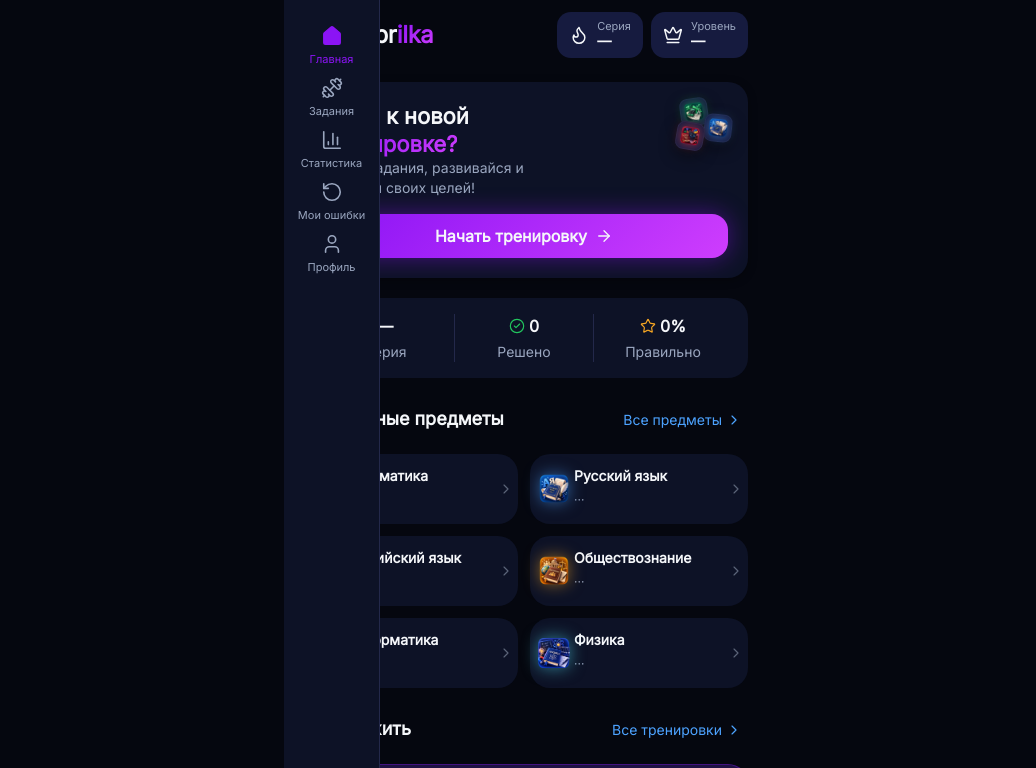
Scenario: AppMobile — MobileShell stays mounted across tab/overlay transitions (mobile visual-flash fix) › never remounts the header/BottomNav when crossing between a plain tab and the Профиль bottom-nav overlay
Expected: the header is shown, x1=284 y1=0 x2=764 y2=66
Expected: the navigation bar named "Zybrilka" is shown, x1=284 y1=0 x2=380 y2=767
Click the button "Профиль".
click(332, 254)  # box x1=284 y1=232 x2=379 y2=276
(page scrolled)
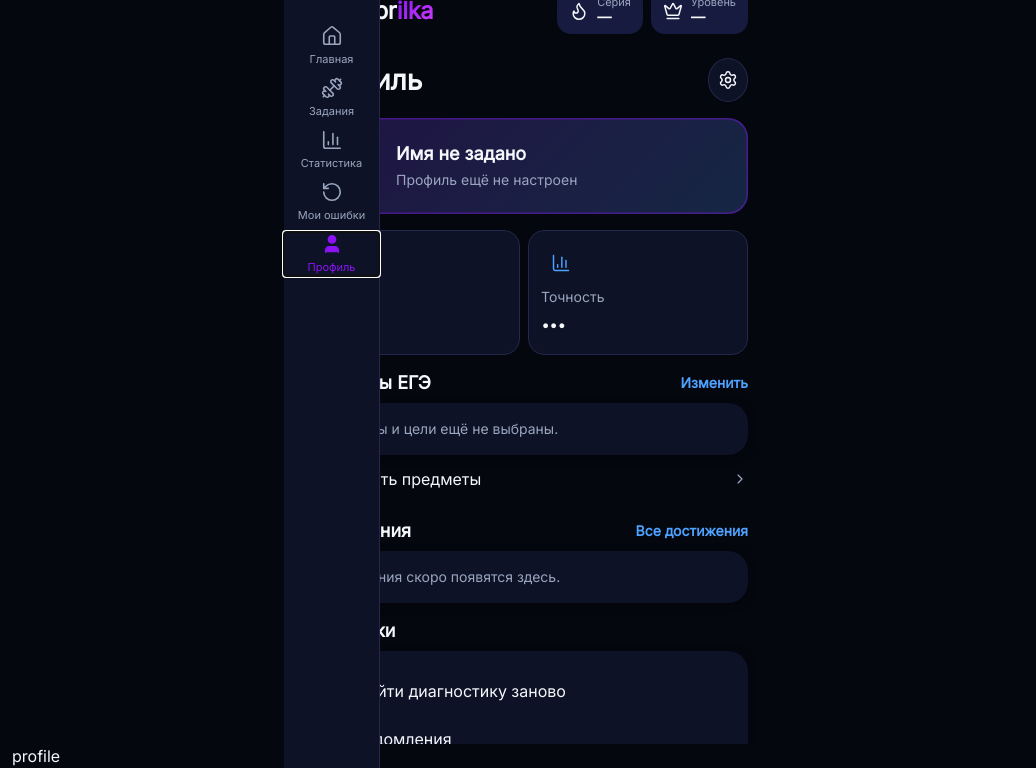
Expected: the text with test id "overlay" reads "profile", x1=12 y1=746 x2=60 y2=766
